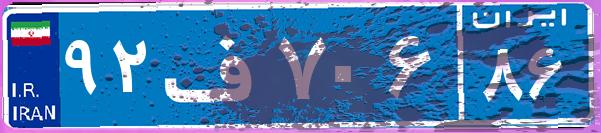0: (330, 28, 385, 110)
2: (110, 28, 158, 105)
6: (385, 28, 445, 110), (525, 38, 570, 115)
7: (273, 28, 330, 110)
8: (475, 38, 525, 113)
9: (57, 26, 110, 107)
ف: (158, 15, 273, 115)
